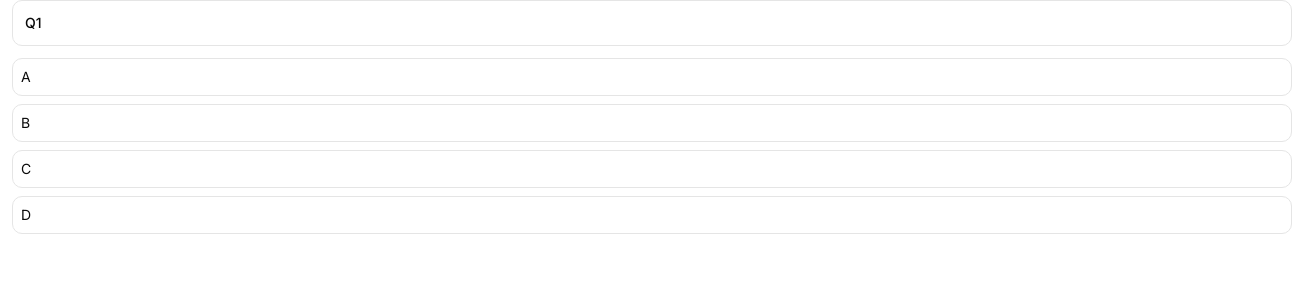
Scenario: QuizOutput › does not show a source button when the answer is correct
Check: the text "Q1" is shown, box [12,0,1292,46]
Click the button "B" at (26, 122), box [12,104,1292,142]
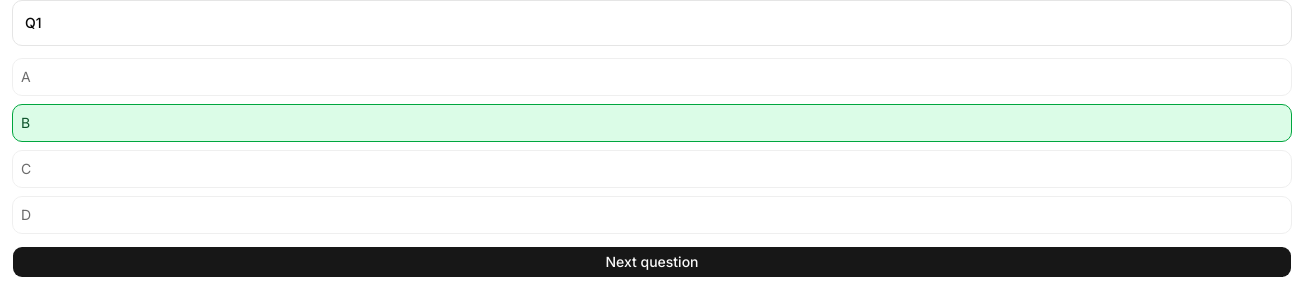
Check: the button "Next question" is shown, box [12,246,1292,278]
